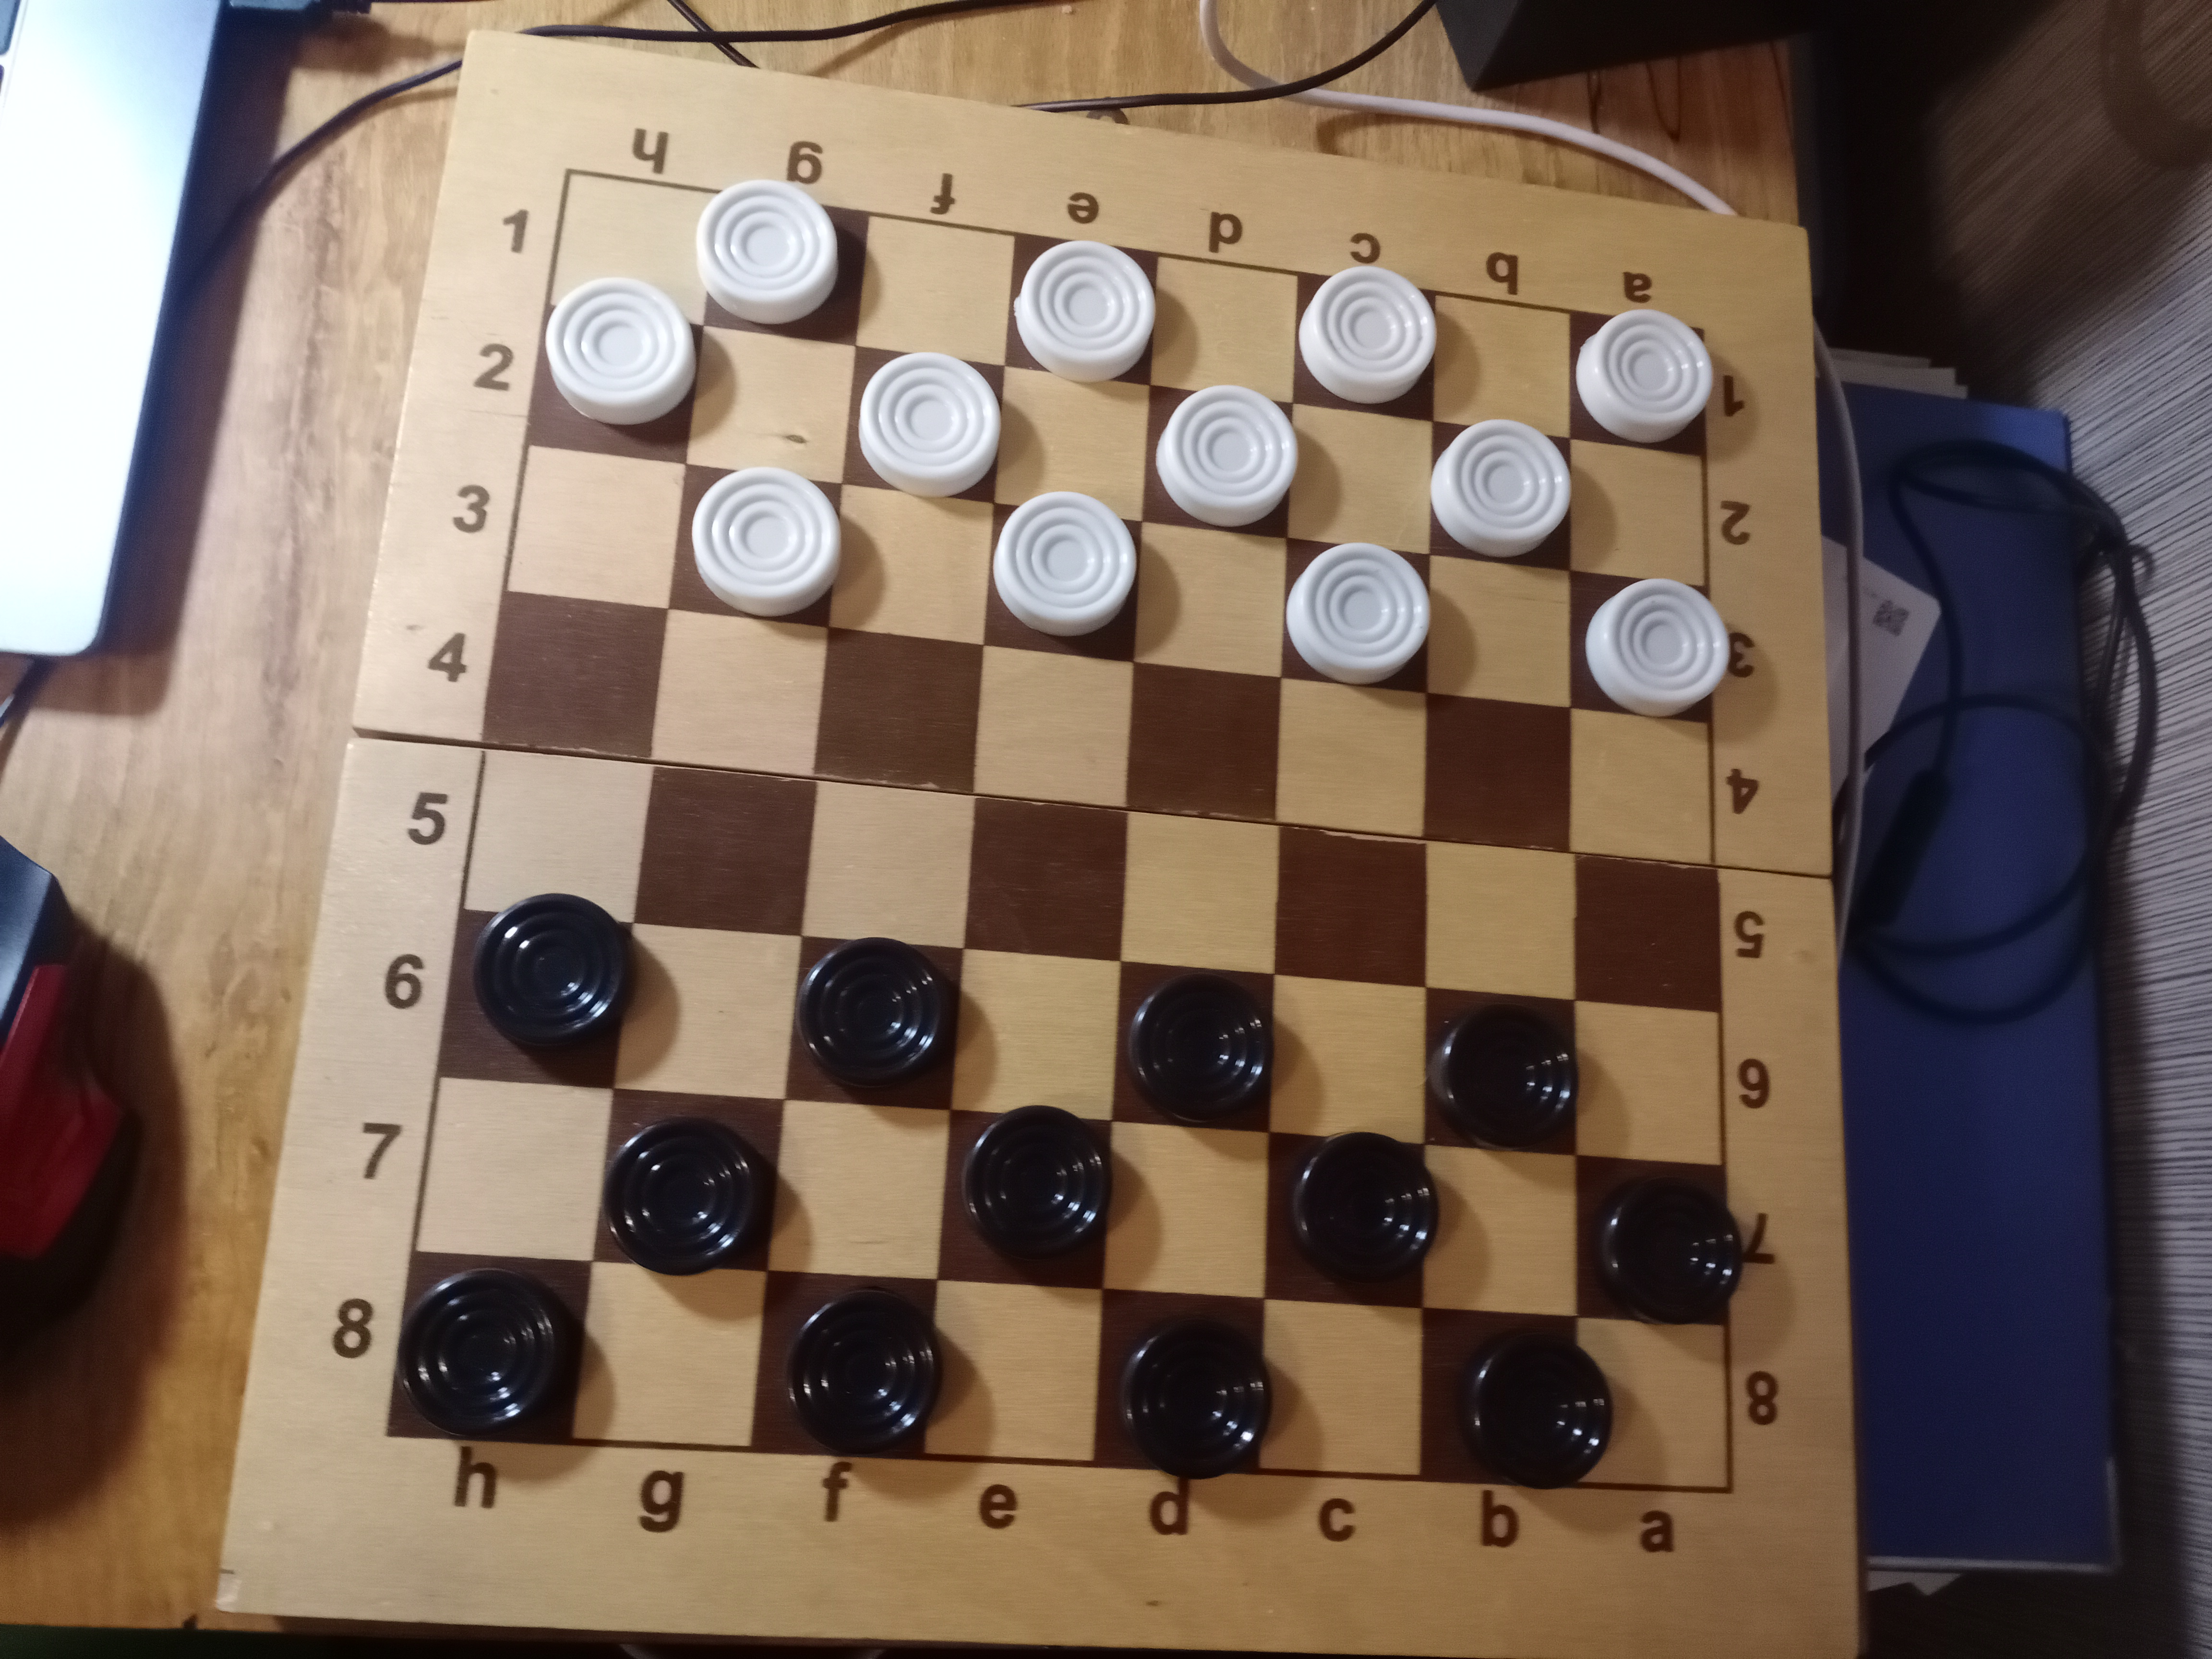Black_Draught: (392, 1249, 592, 1443), (439, 892, 634, 1087), (592, 1087, 786, 1274), (754, 1270, 939, 1457), (1423, 1309, 1613, 1490), (1092, 1288, 1271, 1480), (941, 1105, 1115, 1288), (786, 936, 965, 1108), (1266, 1131, 1439, 1309), (1111, 960, 1273, 1133), (1578, 1157, 1743, 1324), (1425, 986, 1578, 1154)
